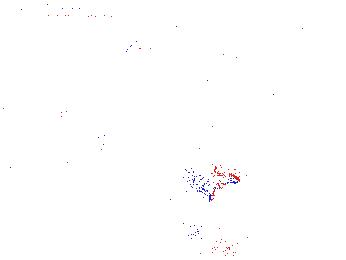flame jellyfish: (22, 133, 107, 184), (164, 150, 241, 204), (64, 155, 126, 214)
